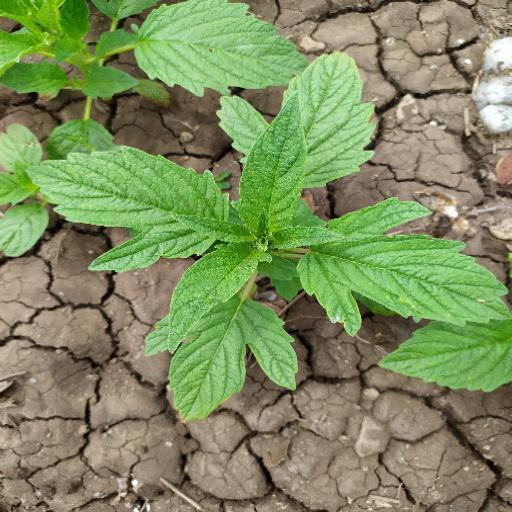crop: (1, 1, 512, 427)
